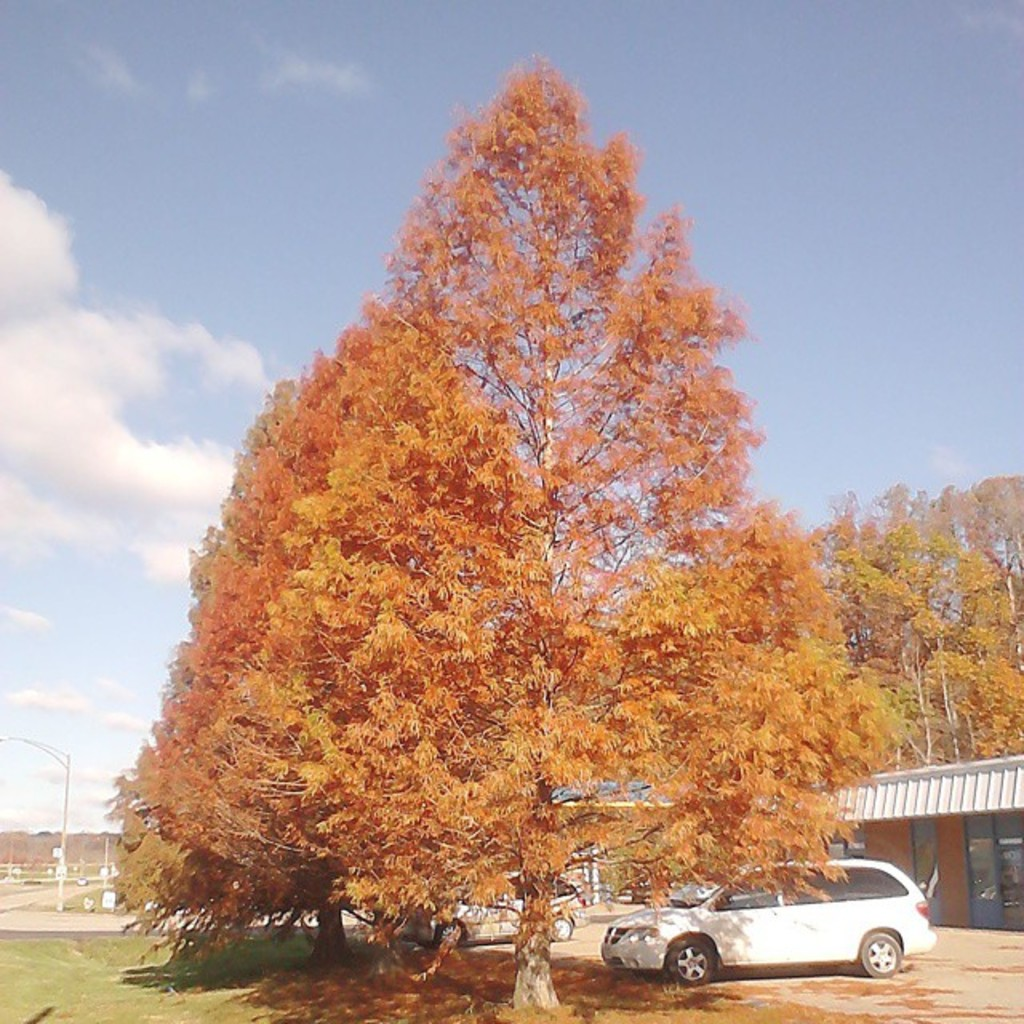Car: (598, 856, 939, 987), (398, 870, 585, 950), (670, 880, 775, 900), (630, 875, 652, 899)
